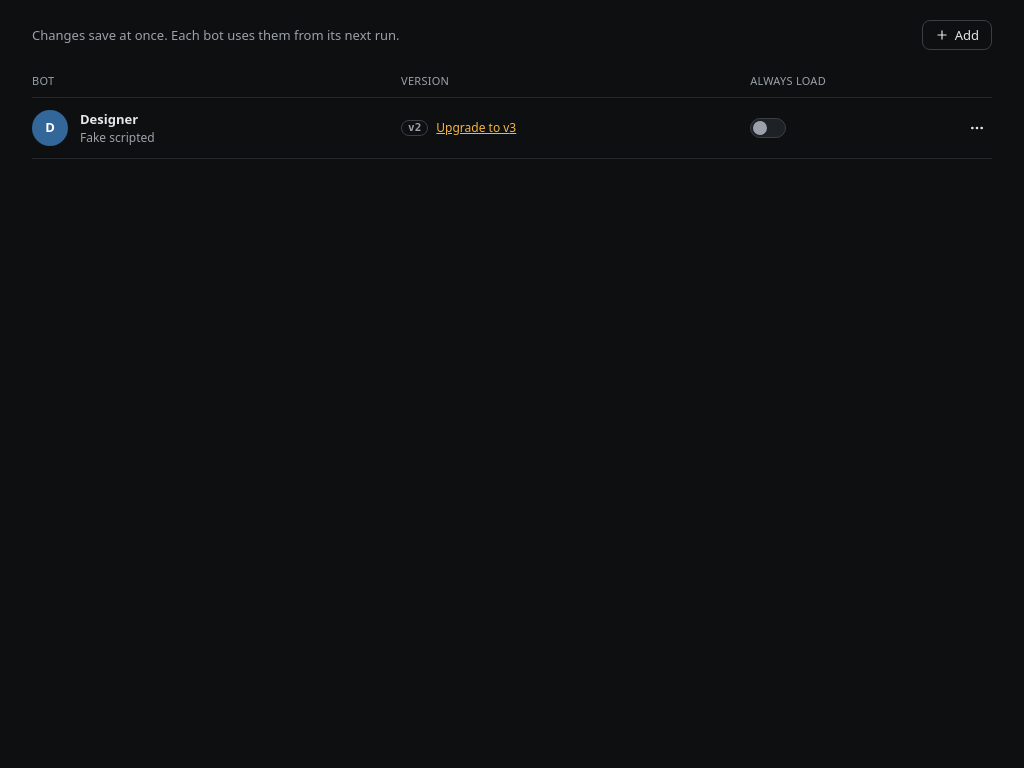
Test: the Bots tab of a skill › shows a failed Add as a toast when its dialog is closed, not in the next dialog
The width and height of the screenshot is (1024, 768).
Expected: the row "D Designer Fake scripted v2 Upgrade to v3" is shown, 32,97 -> 992,158
Click the button "Add": {"x": 957, "y": 35} 922,20 -> 992,50
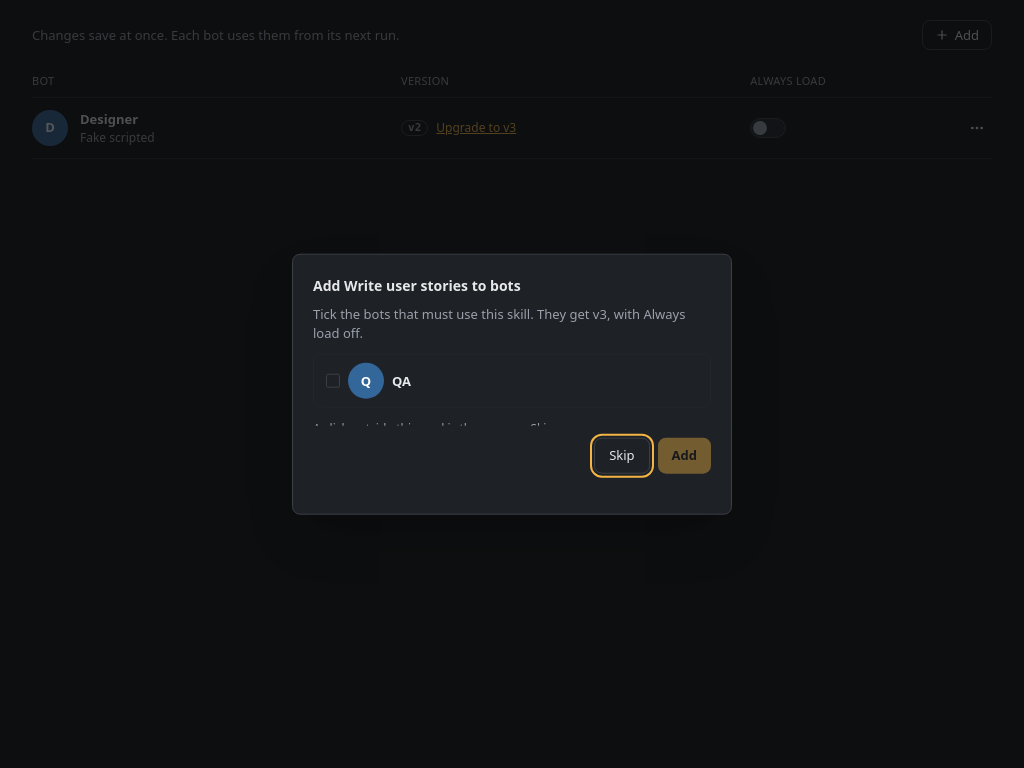
Result: the text "They get v3" is shown at 313,304 -> 711,342
Click the checkbox: {"x": 333, "y": 381} 326,374 -> 340,388
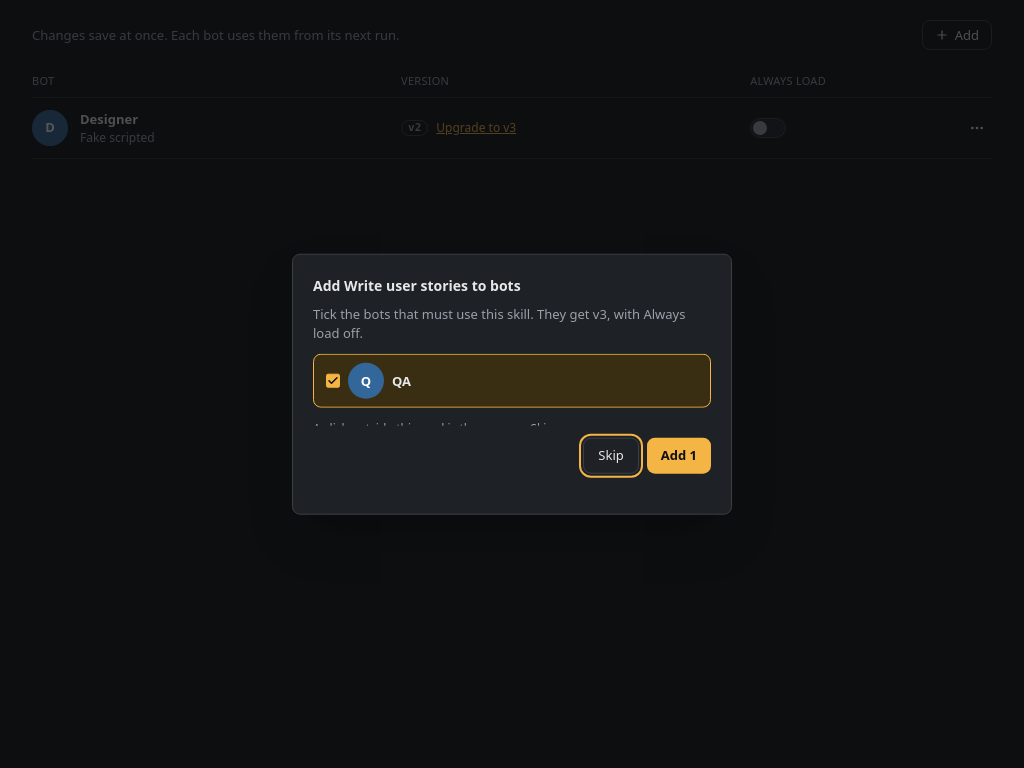
Click the button "Add 1": {"x": 679, "y": 455} 647,437 -> 711,473
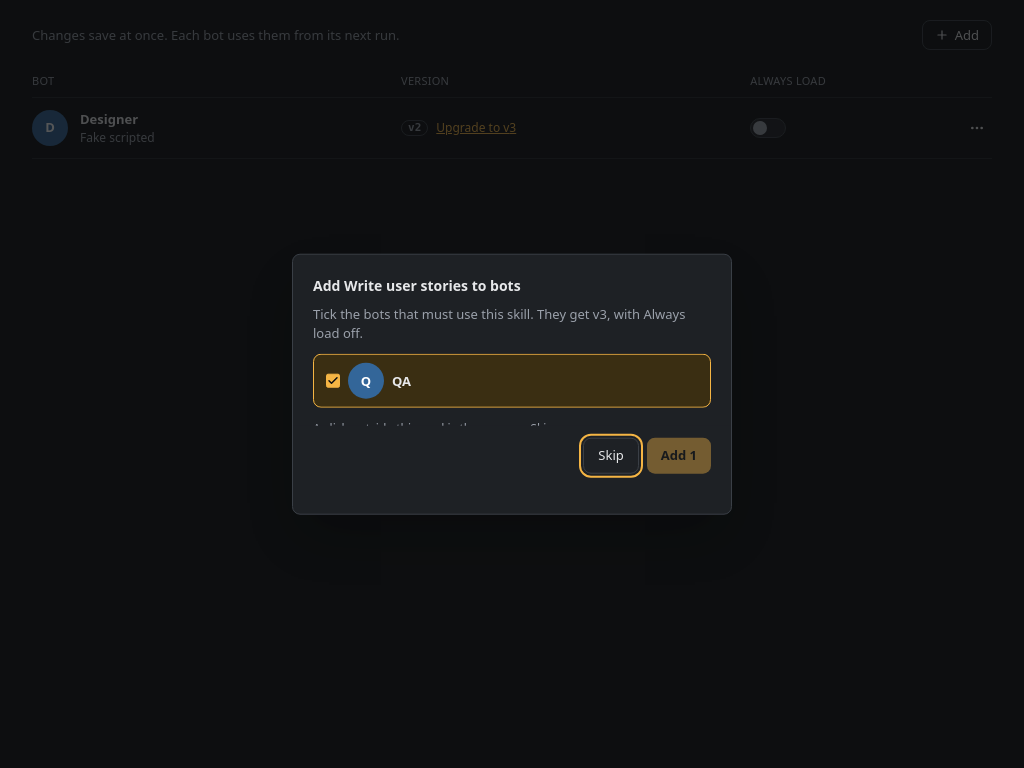
Click the button "Skip": {"x": 611, "y": 455} 583,437 -> 639,473
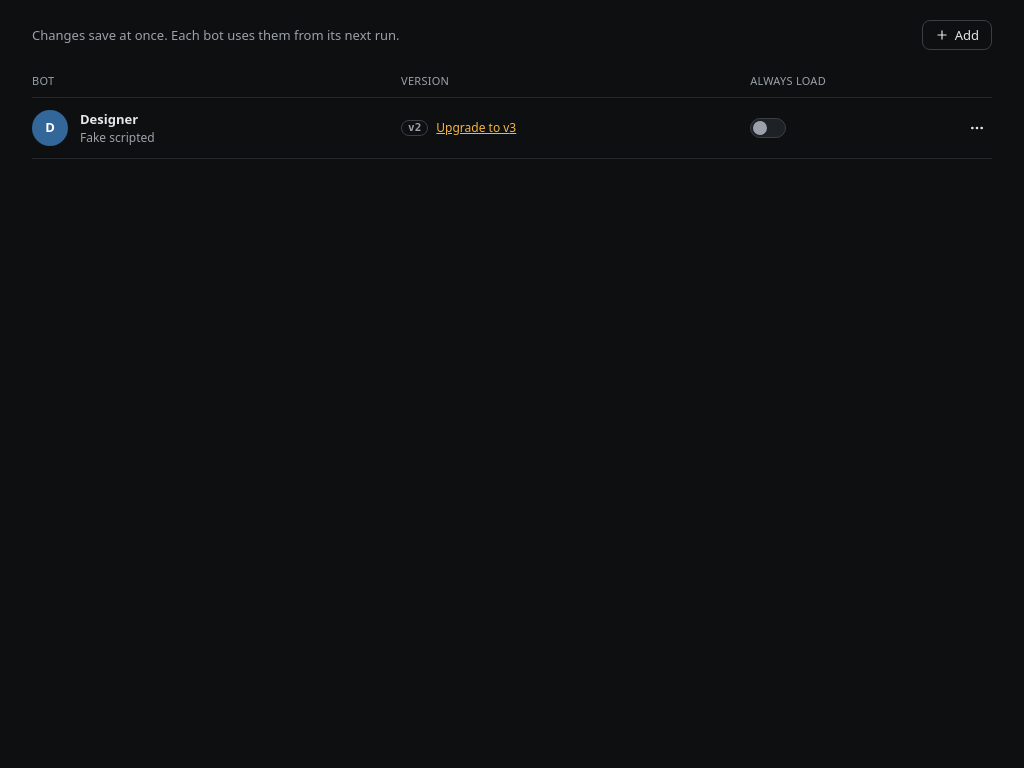
Click the button "Upgrade to v3": {"x": 476, "y": 128} 436,119 -> 516,136
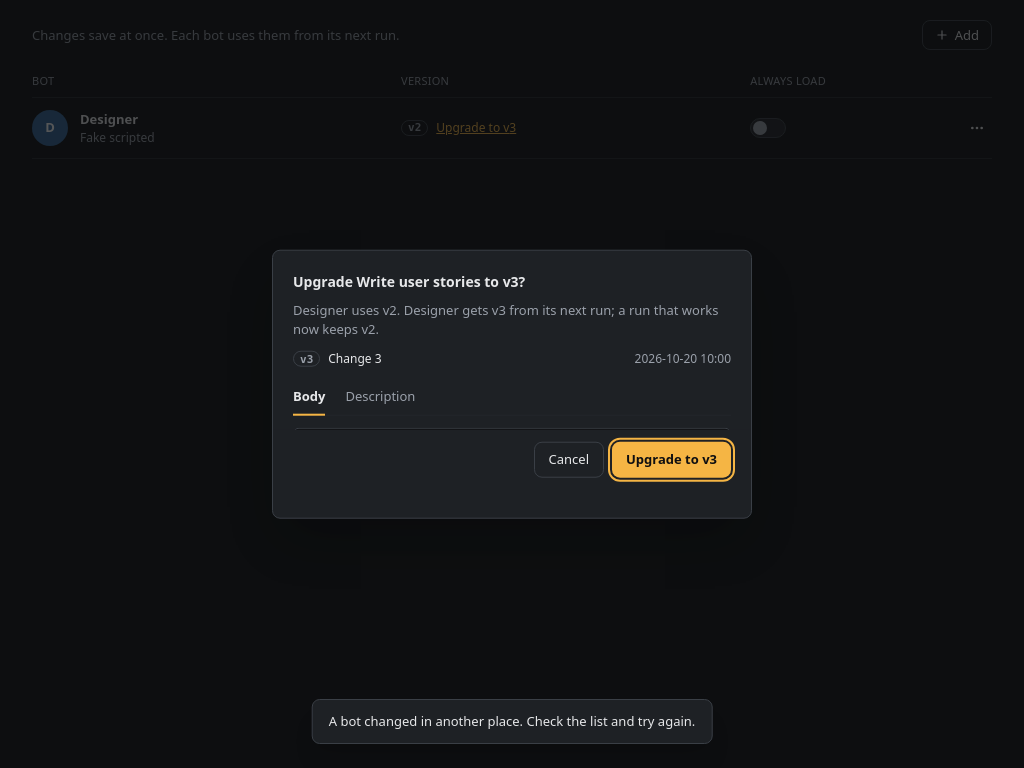
Result: the heading "A bot changed in another place. Check the list and try again." is shown at 329,712 -> 695,731
